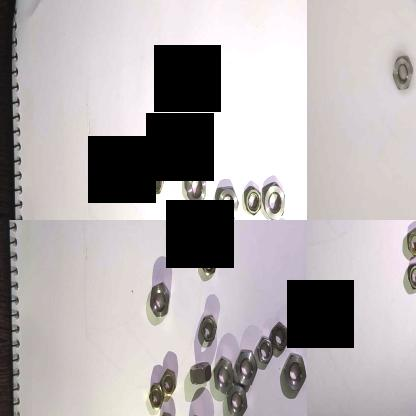NUTS: (182, 164, 210, 208), (262, 177, 287, 220), (283, 350, 307, 394), (232, 346, 258, 386), (148, 280, 172, 321), (390, 52, 414, 92), (212, 357, 235, 397), (223, 381, 249, 416), (215, 183, 239, 220), (242, 183, 266, 216), (188, 360, 216, 388), (144, 166, 166, 198), (198, 245, 219, 278), (270, 318, 290, 352), (160, 363, 178, 398), (198, 313, 218, 344), (256, 332, 274, 364), (148, 382, 166, 414), (405, 224, 416, 258), (407, 260, 416, 293)
